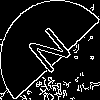N: (25, 24, 80, 84)
